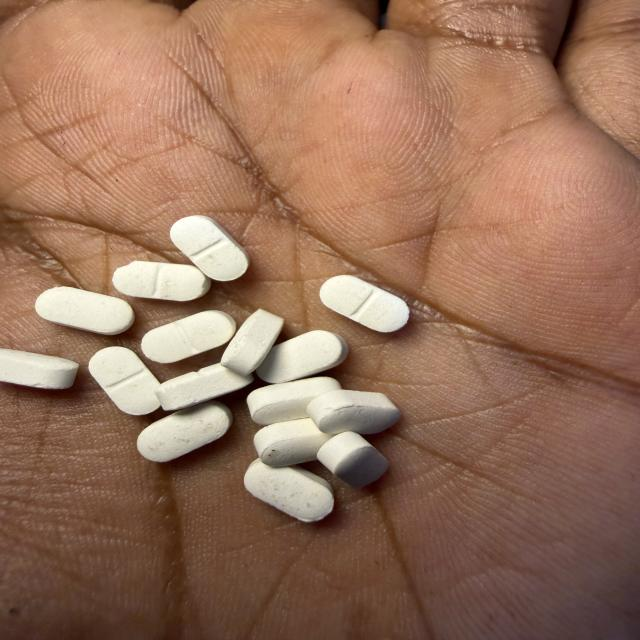pill: (137, 401, 232, 462), (245, 459, 333, 522), (170, 216, 249, 281), (320, 275, 409, 332), (141, 311, 235, 363), (256, 330, 348, 383), (89, 347, 159, 415), (35, 287, 134, 335), (247, 377, 341, 425), (156, 364, 253, 410), (307, 390, 400, 434), (221, 310, 283, 374), (317, 432, 388, 487), (113, 261, 210, 301), (254, 419, 332, 466), (0, 349, 78, 389)
